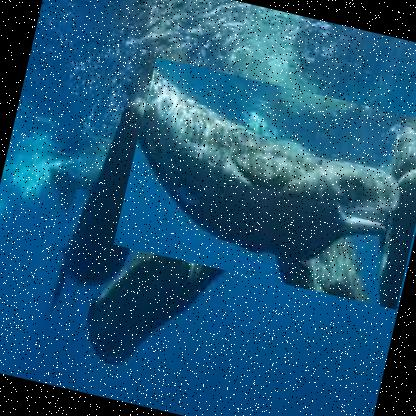sperm_whale: (113, 57, 415, 312)
